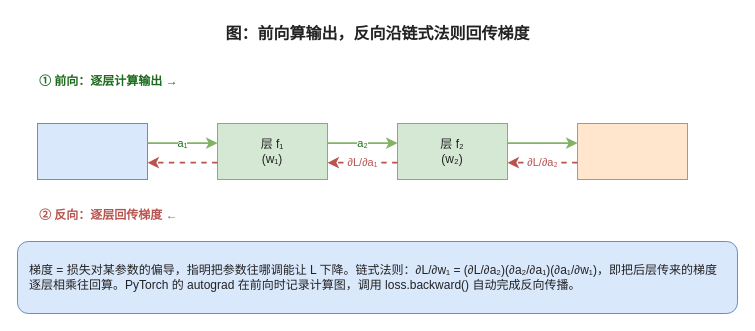
Image size: 755x331. Some labels were removed from this diagram. Each missing label, with the centre of its shape:
损失 L: the point at 632,151
输入 x: the point at 92,151
